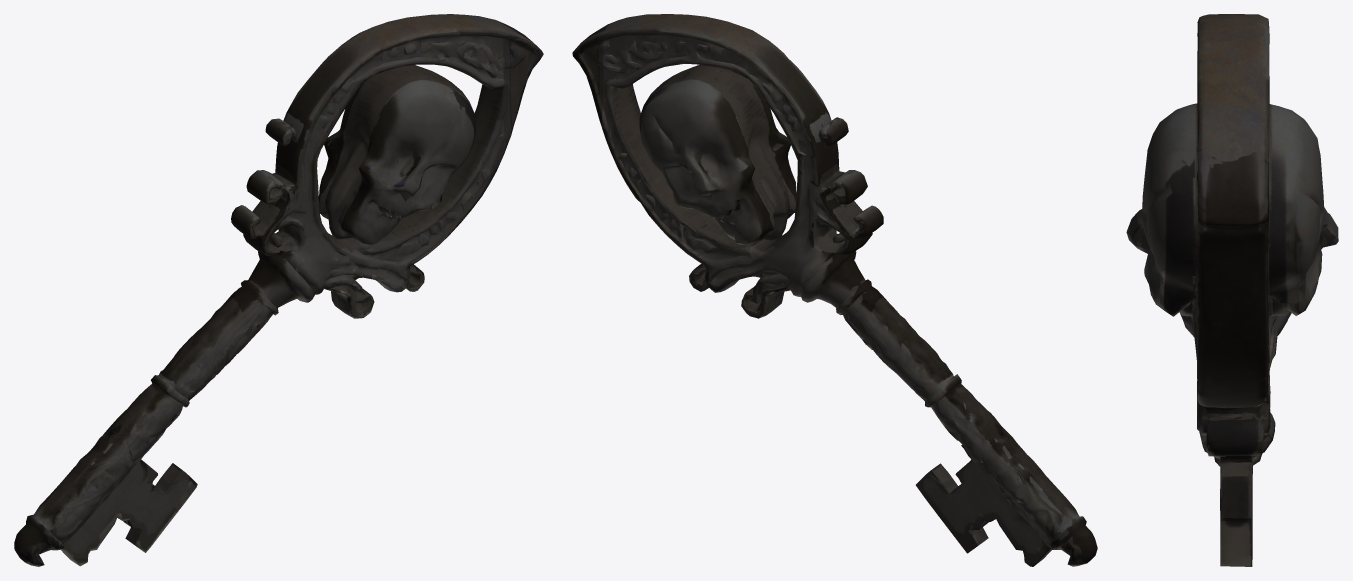
The picture shows the model from 3 angles, left to right: view 1: azimuth 30°, elevation 25°; view 2: azimuth 150°, elevation 25°; view 3: azimuth 270°, elevation 25°; orthographic projection. The views are drawn at different scales.
Visible parts, largest first — view 1: Quest key black; view 2: Quest key black; view 3: Quest key black.
Boxes of the visible parts, x1,y1,x2,y2 form: Quest key black: (14,14,543,566); Quest key black: (572,14,1097,566); Quest key black: (1126,14,1338,566).
Bounding box in the file's own units: 2 × 1.7 × 0.445.
1 material, 1 textured.
